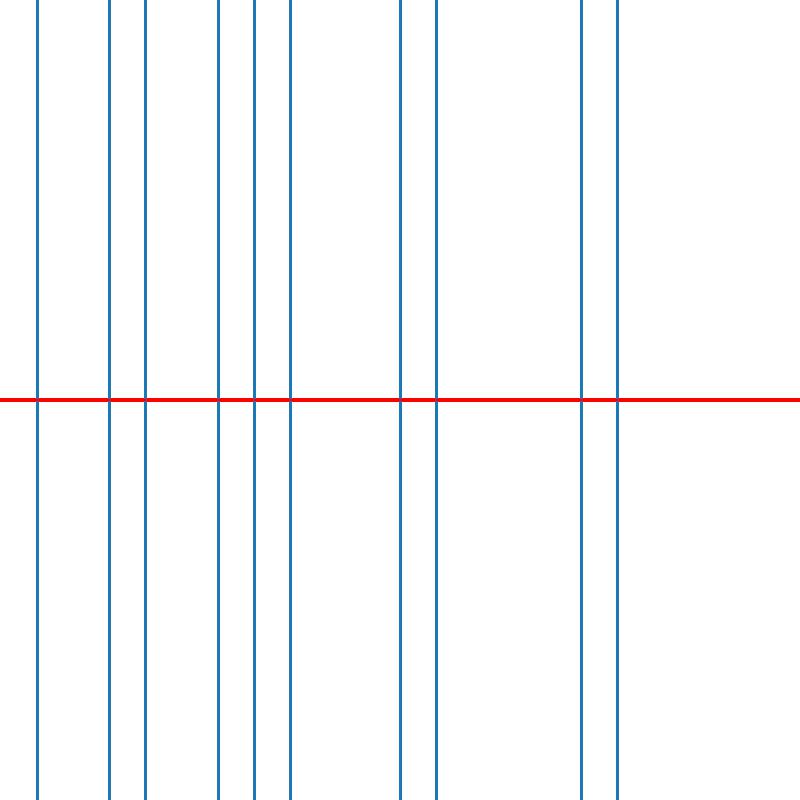root: (432, 396, 440, 404), (32, 396, 40, 404), (141, 396, 149, 404), (250, 396, 258, 404), (578, 396, 585, 404), (214, 396, 221, 404), (105, 396, 112, 404), (396, 396, 403, 404), (287, 396, 294, 404), (614, 396, 621, 404)
